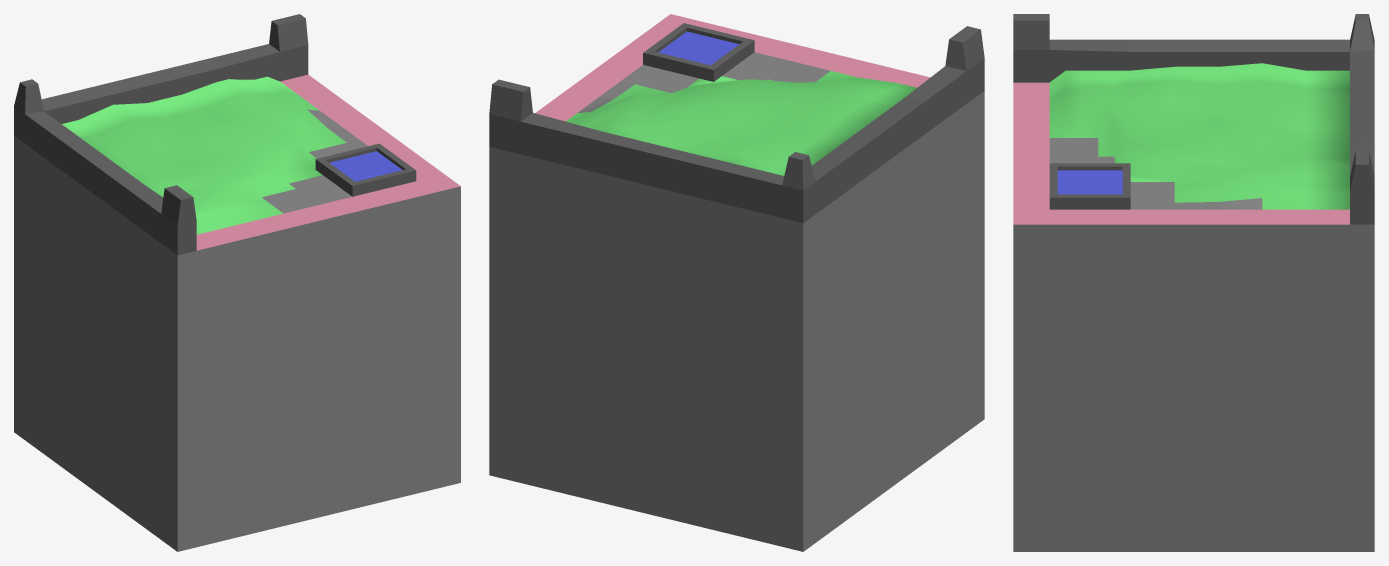
File: Park_1x1.fbx
The picture shows the model from 3 angles, left to right: view 1: azimuth 30°, elevation 25°; view 2: azimuth 150°, elevation 25°; view 3: azimuth 270°, elevation 25°; orthographic projection. The views are drawn at different scales.
Visible parts, largest first — view 1: Cube; view 2: Cube; view 3: Cube.
Part boxes in pixels (x1,y1,x2,y2): Cube: (14,14,460,551); Cube: (489,14,984,551); Cube: (1013,14,1374,551).
Bounding box in the file's own units: 2 × 2.37 × 2.
